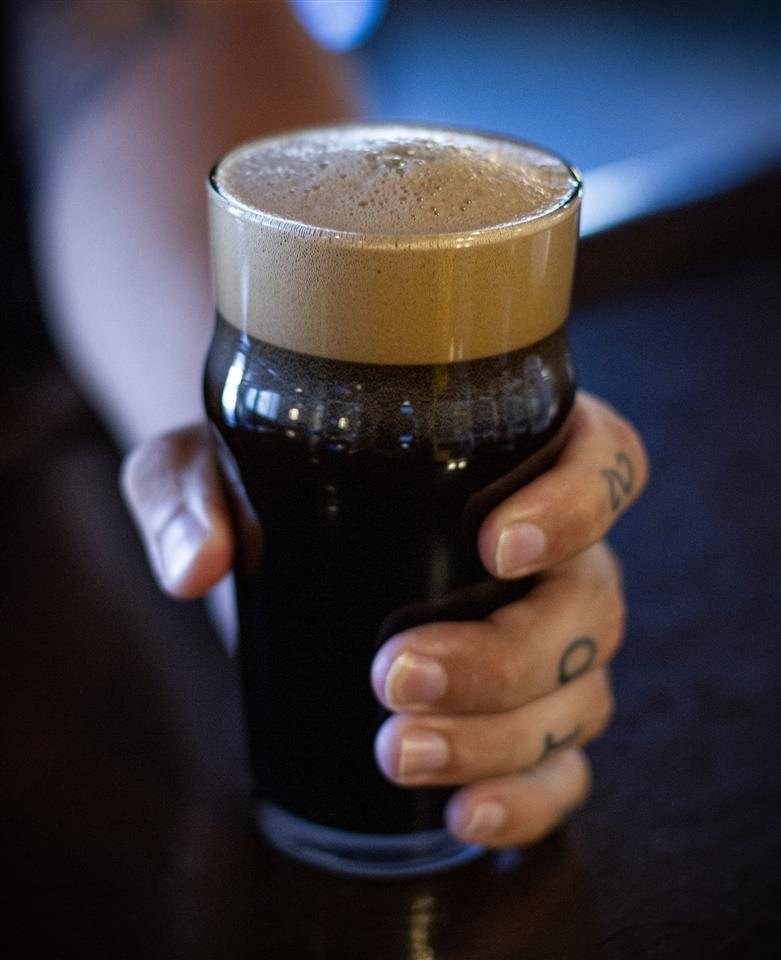glass-normal: (200, 122, 586, 878)
